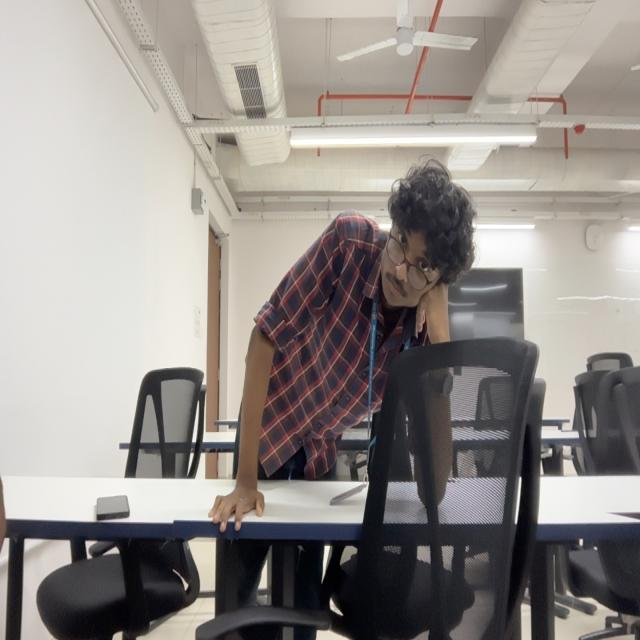darshan: (383, 158, 477, 305)
